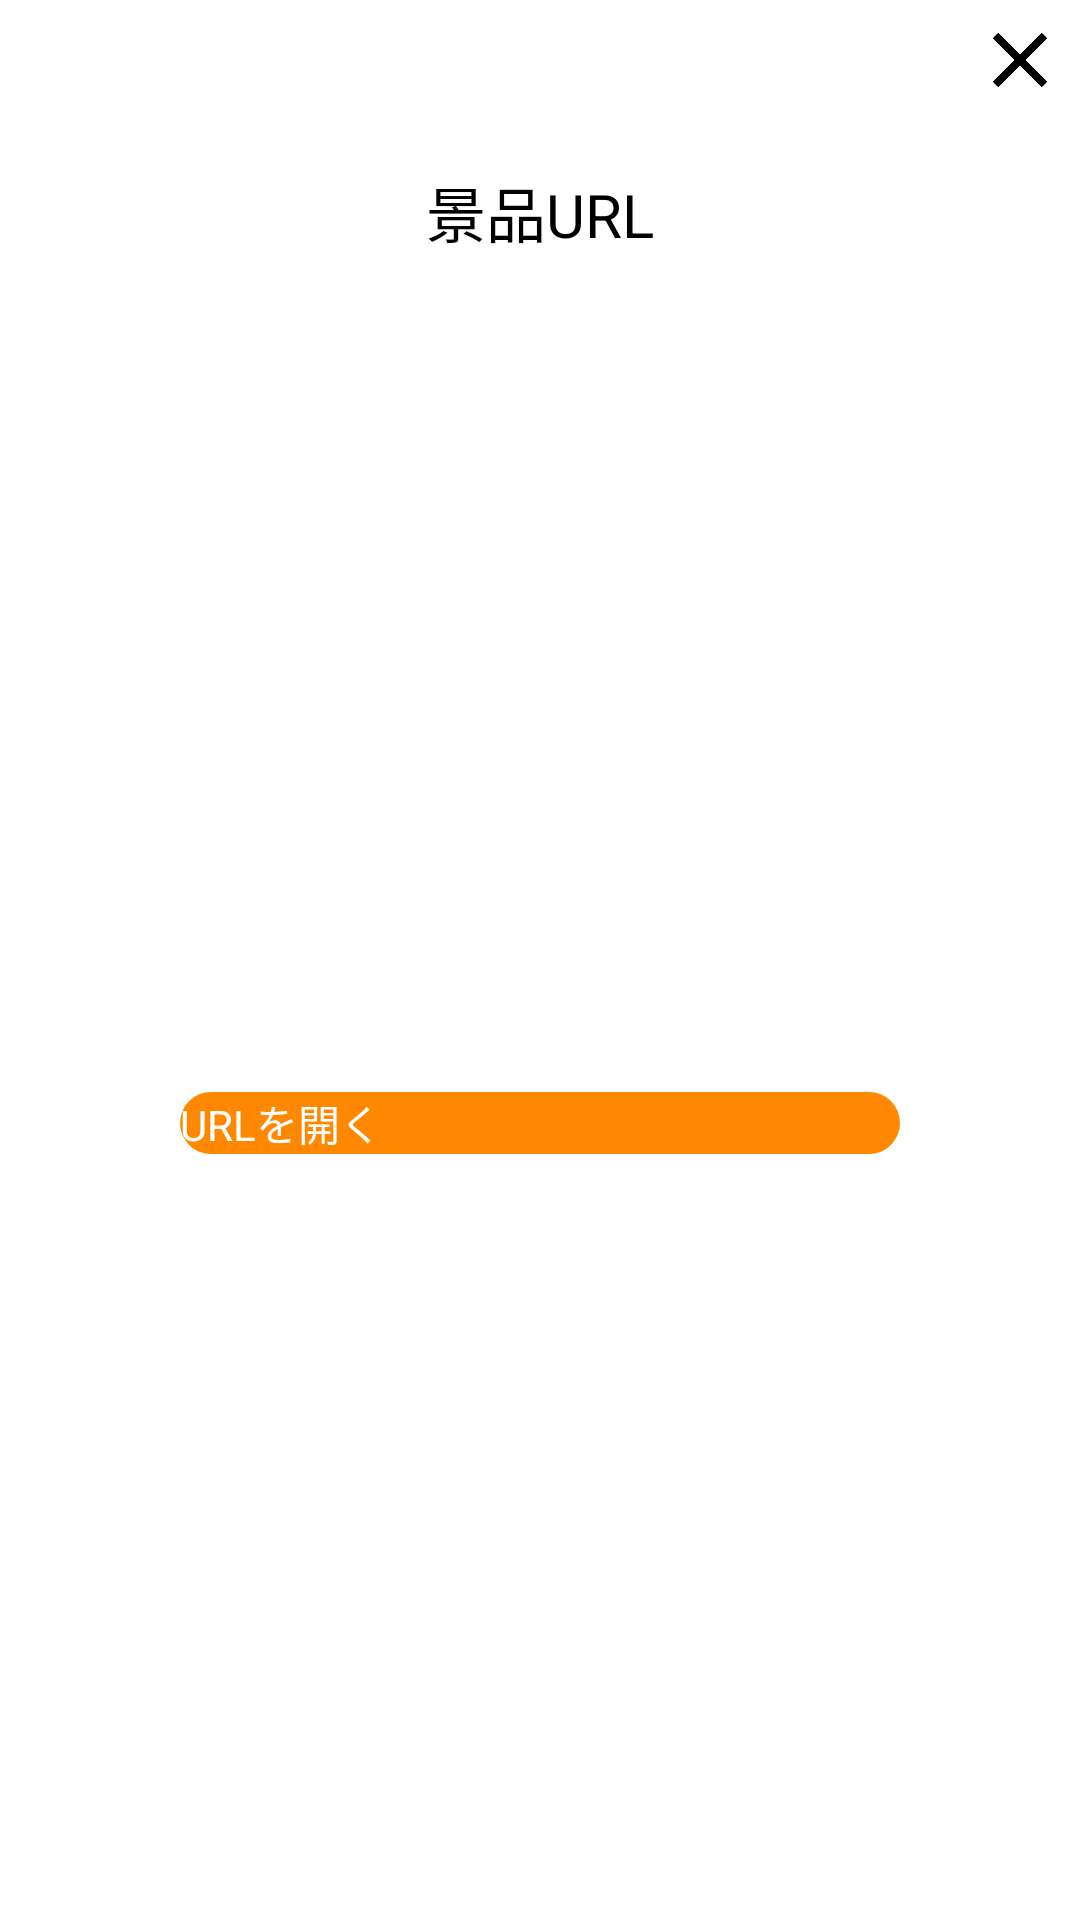

Named icons in this screenshot (1080*1920) and their centers, [x,y]:
close: [1020,60]
